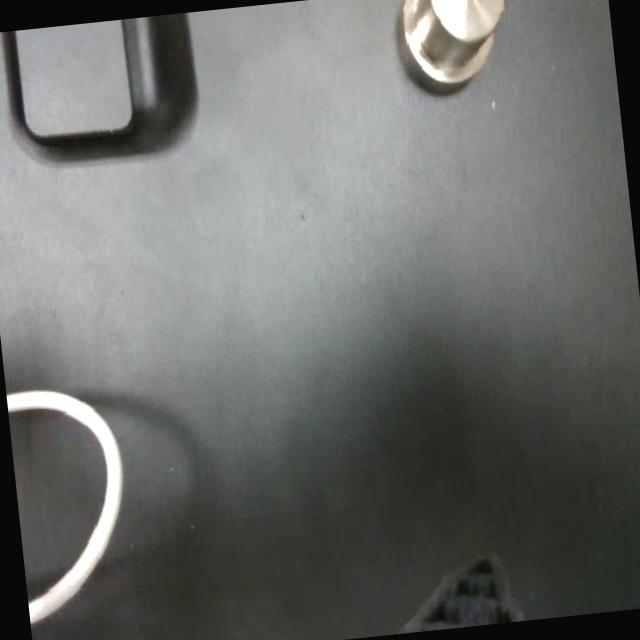sensor: (396, 0, 513, 95)
